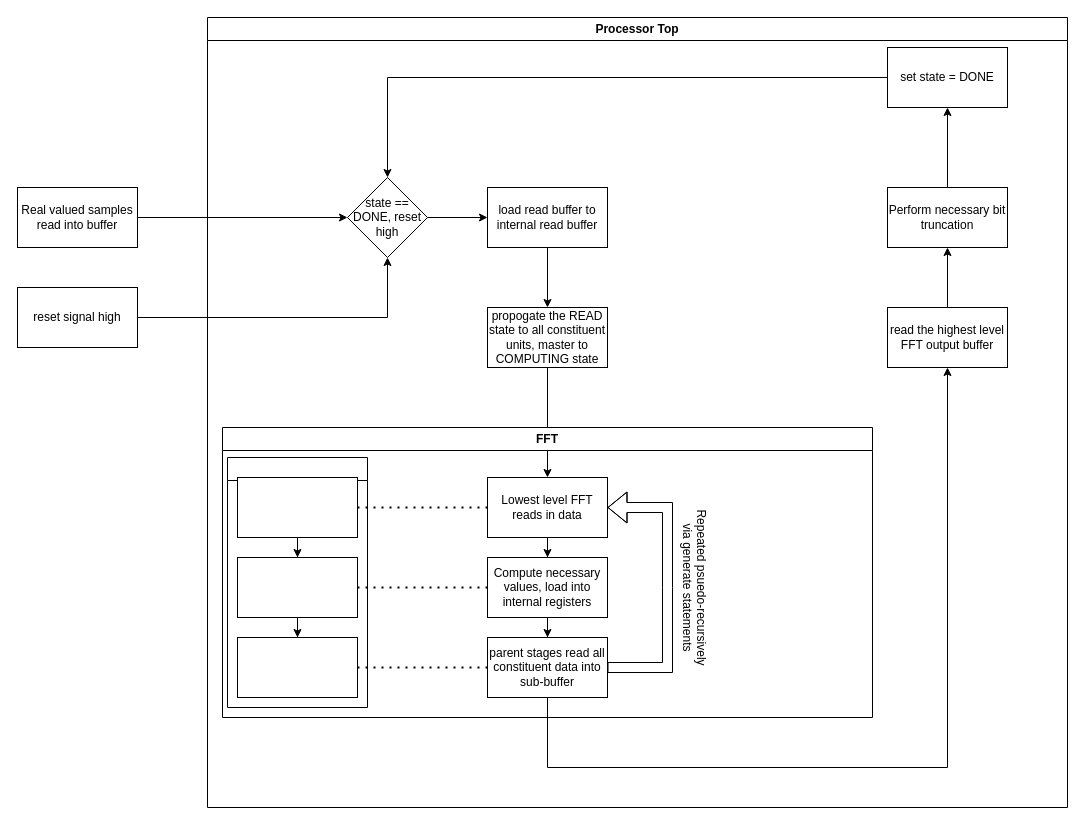
This 1085x825 diagram has some shape labels left out. The shapes that lost their labels are listed below. From the top down, each one's box as (x1, y1, x2, y2) in pixels, then its label:
(236, 476, 358, 538): READ state
(226, 456, 368, 708): FFTState
(236, 556, 358, 618): COMPUTING state (signifies for current state to run computations)
(236, 636, 358, 698): DONE state
